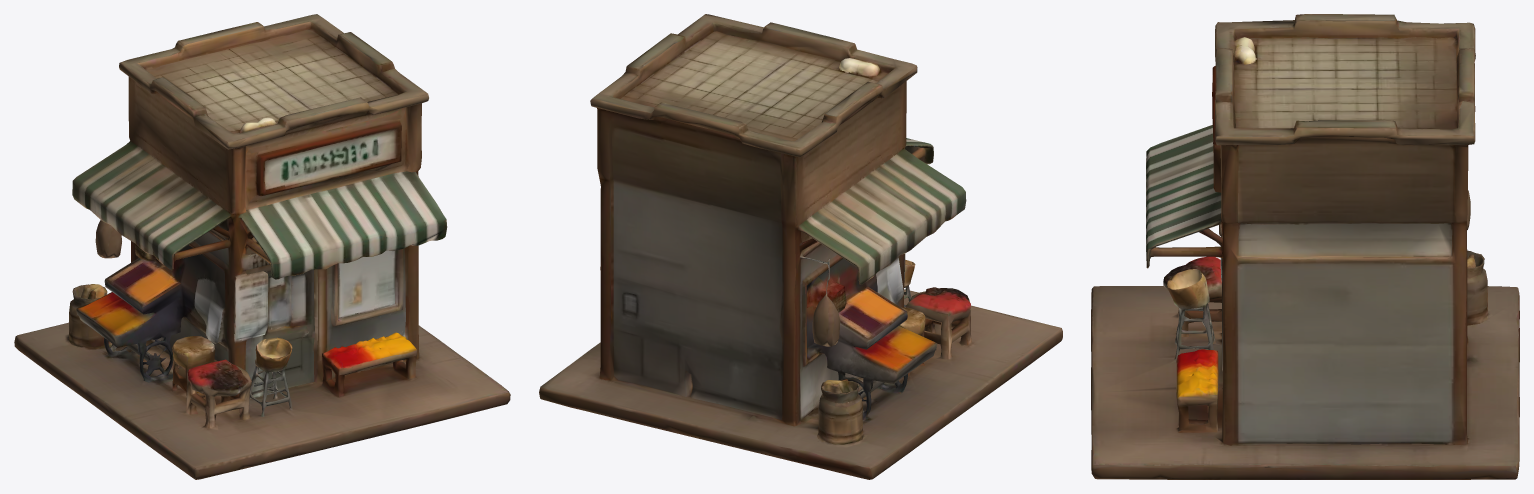
The model's file is grocery.glb.
3 renders of one model, left to right at view 1: azimuth 30°, elevation 25°; view 2: azimuth 150°, elevation 25°; view 3: azimuth 270°, elevation 25°, orthographic. The views are drawn at different scales.
Size of the model in its own units: 1 by 0.8661 by 1.
Materials: 1 (1 with a texture image).
